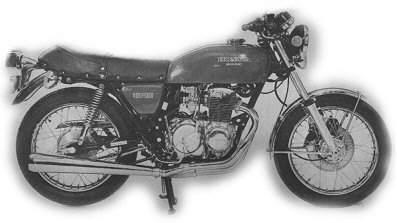motorcycle: (5, 6, 393, 219)
